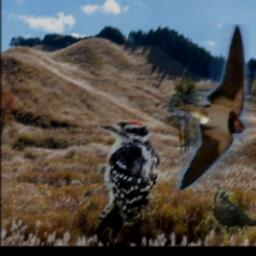Crow: (211, 189, 256, 243)
Swallow: (140, 24, 250, 190)
Woodpecker: (97, 120, 163, 242)
